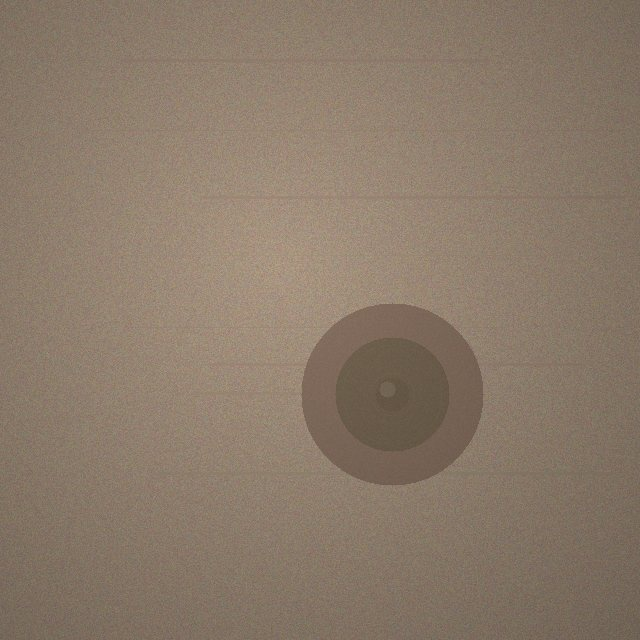good: (301, 303, 483, 485)
